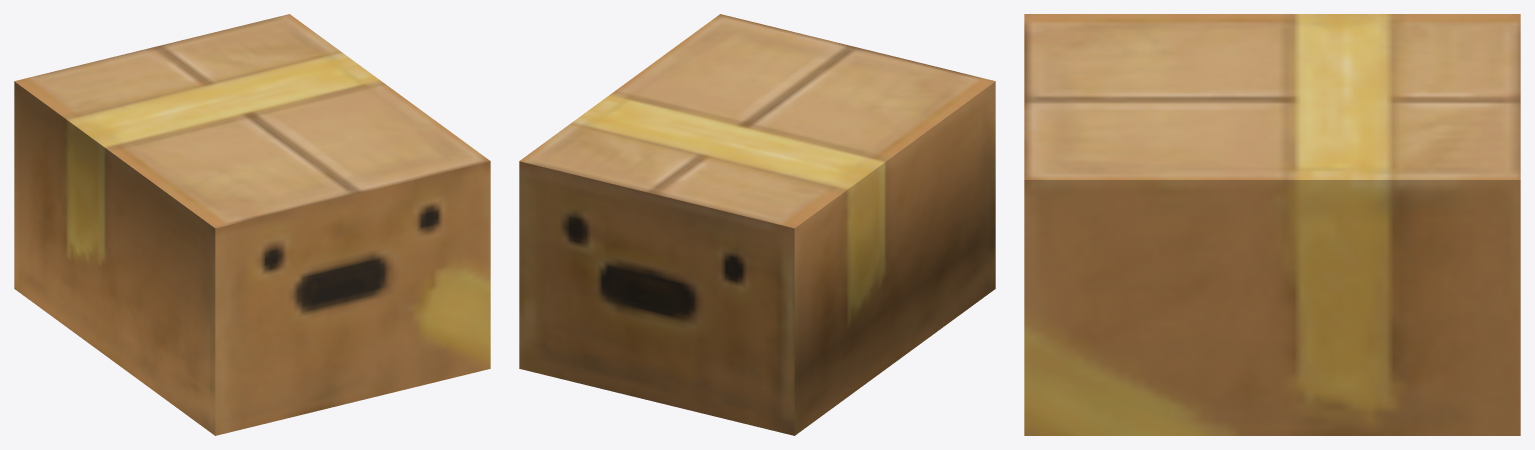
Rendered from a_sefire03.glb.
3 views of the same model, side by side, from view 1: azimuth 30°, elevation 25°; view 2: azimuth 150°, elevation 25°; view 3: azimuth 270°, elevation 25° (orthographic). The views are drawn at different scales.
Parts seen in each view (by area): view 1: a_sefire03; view 2: a_sefire03; view 3: a_sefire03.
Boxes of the visible parts, x1,y1,x2,y2 form: a_sefire03: [14, 14, 490, 435]; a_sefire03: [519, 14, 995, 435]; a_sefire03: [1024, 14, 1520, 435].
Bounding box in the file's own units: 0.5989 × 0.4311 × 0.7573.
1 material, 1 textured.
